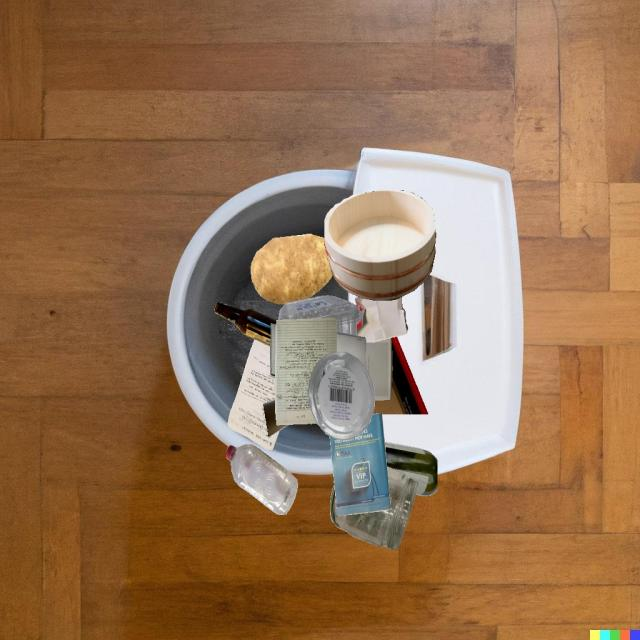biowaste: (250, 234, 333, 304)
cardboard: (372, 336, 428, 414)
combustible waste: (324, 190, 436, 301)
glass: (330, 466, 419, 550), (385, 442, 438, 496), (214, 302, 276, 346), (263, 399, 290, 436)
paper: (275, 318, 337, 425), (329, 413, 391, 516), (227, 339, 279, 450), (354, 296, 408, 342), (365, 338, 393, 401), (336, 331, 366, 367), (270, 323, 276, 378)
plastic: (308, 352, 375, 440), (226, 444, 298, 515), (278, 295, 363, 336)
